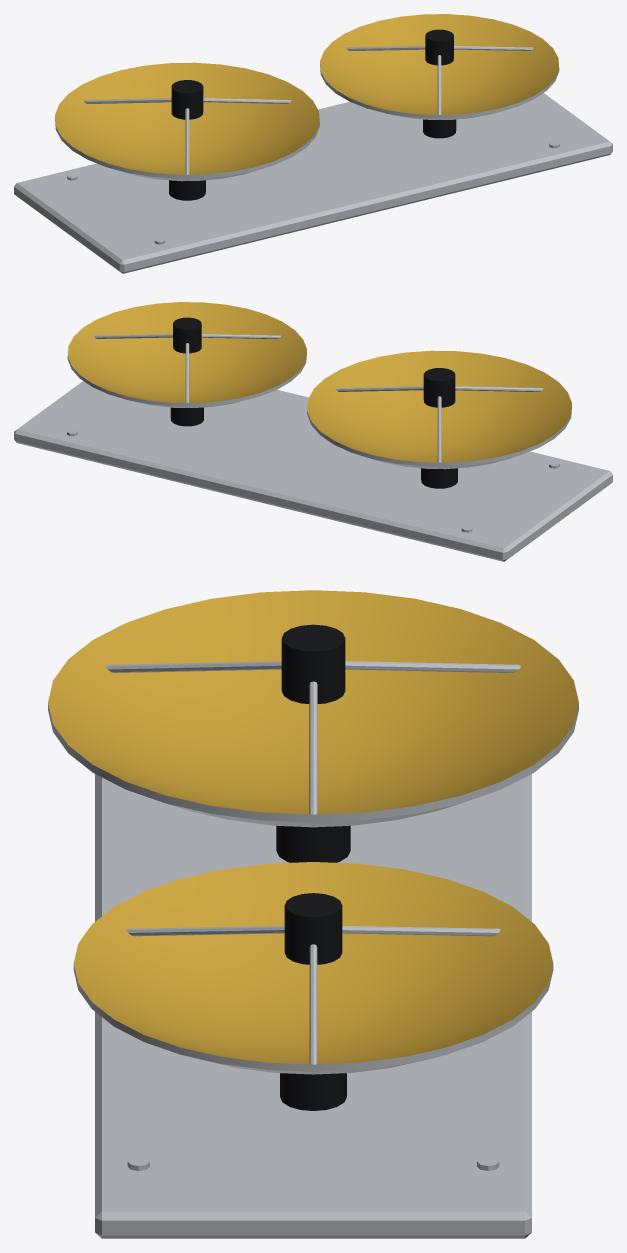
File: inst_kuka_transponder_suite.glb
The picture shows the model from 3 angles, top to bottom: view 1: azimuth 30°, elevation 25°; view 2: azimuth 150°, elevation 25°; view 3: azimuth 270°, elevation 25°; orthographic projection. The views are drawn at different scales.
Parts seen in each view (by area): view 1: dual_communications_reflectors; view 2: dual_communications_reflectors; view 3: dual_communications_reflectors.
Part boxes in pixels (x1=…): dual_communications_reflectors: x1=14, y1=14, x2=612, y2=273; dual_communications_reflectors: x1=14, y1=302, x2=612, y2=561; dual_communications_reflectors: x1=48, y1=590, x2=578, y2=1238.
Bounding box in the file's own units: 1.33 × 0.309 × 0.62.
